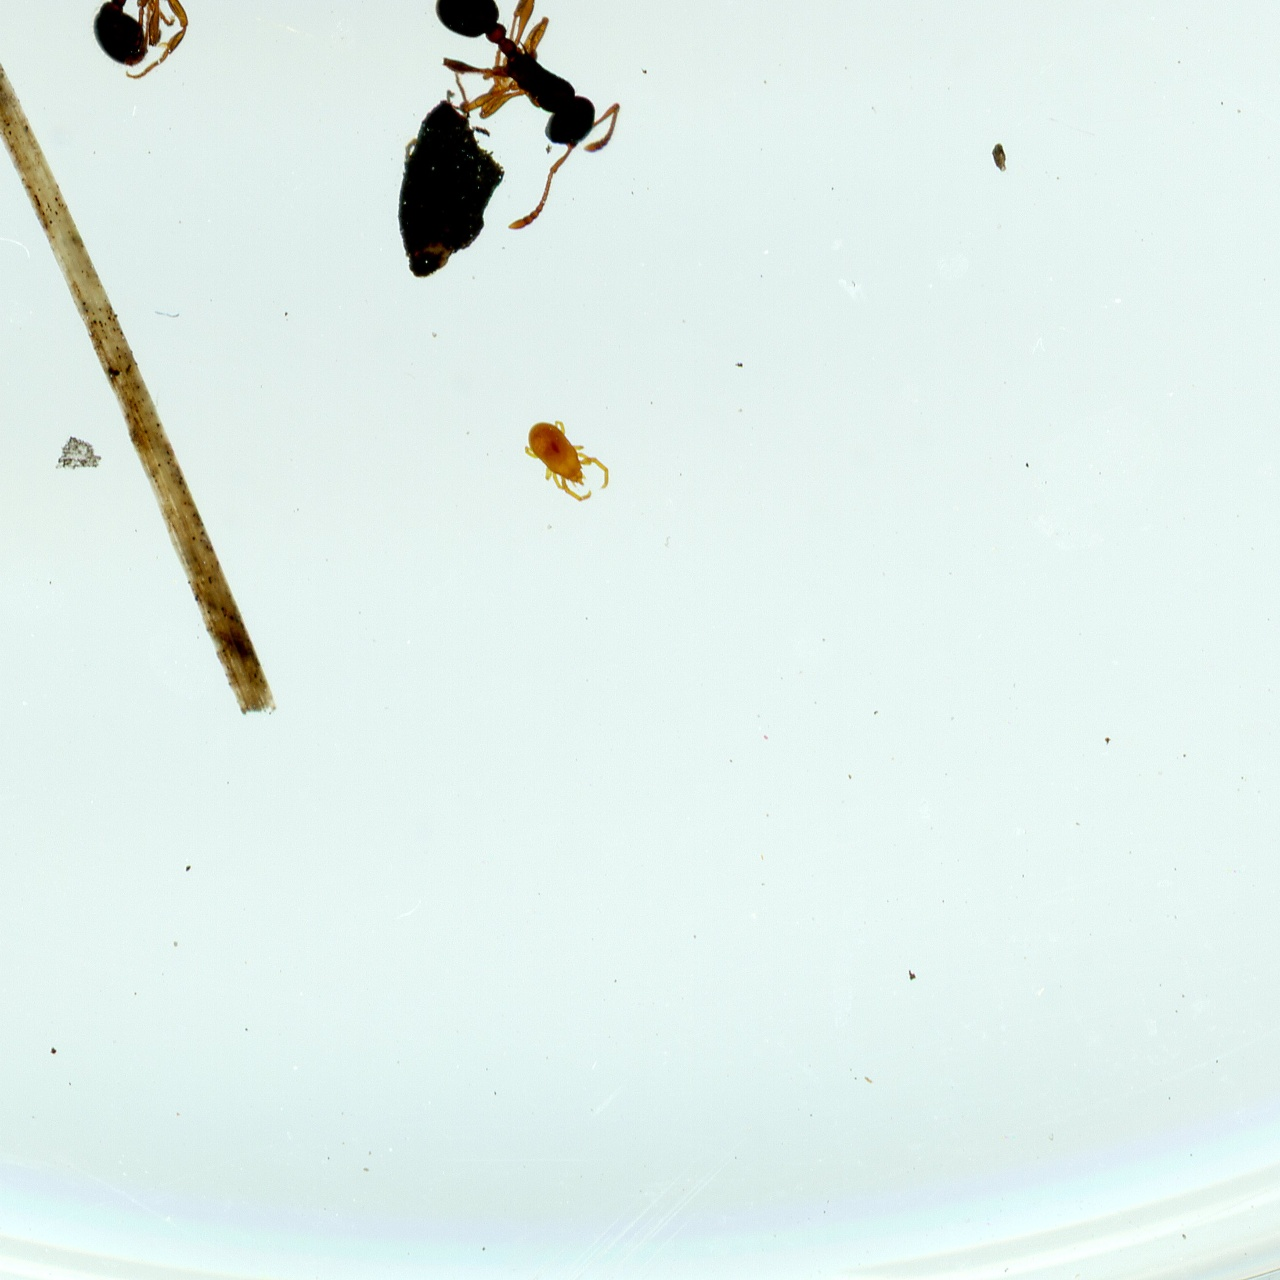arthropod: (356, 0, 665, 250), (27, 0, 279, 116), (508, 401, 621, 520)
